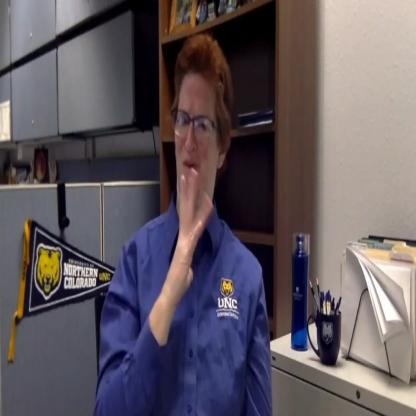Talk: (158, 30, 240, 307)
